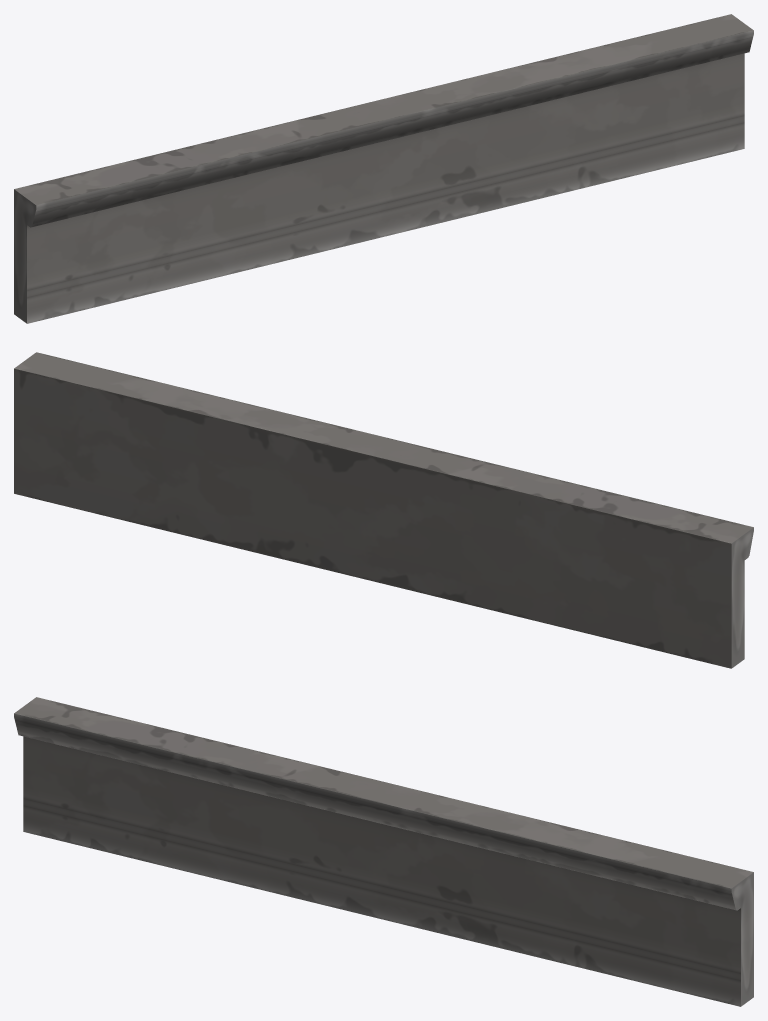
Rendered from PropTrimFacade02_1.FBX.
The picture shows the model from 3 angles, top to bottom: view 1: azimuth 30°, elevation 25°; view 2: azimuth 150°, elevation 25°; view 3: azimuth 330°, elevation 25°; orthographic projection.
Parts seen in each view (by area): view 1: PropTrimFacade02_1; view 2: PropTrimFacade02_1; view 3: PropTrimFacade02_1.
Boxes of the visible parts, bbox=[...] form: PropTrimFacade02_1: bbox=[14, 14, 753, 323]; PropTrimFacade02_1: bbox=[14, 352, 753, 668]; PropTrimFacade02_1: bbox=[14, 697, 753, 1006].
Size of what is drawn, in the model's own units: 4.5 by 0.75 by 0.2436.
